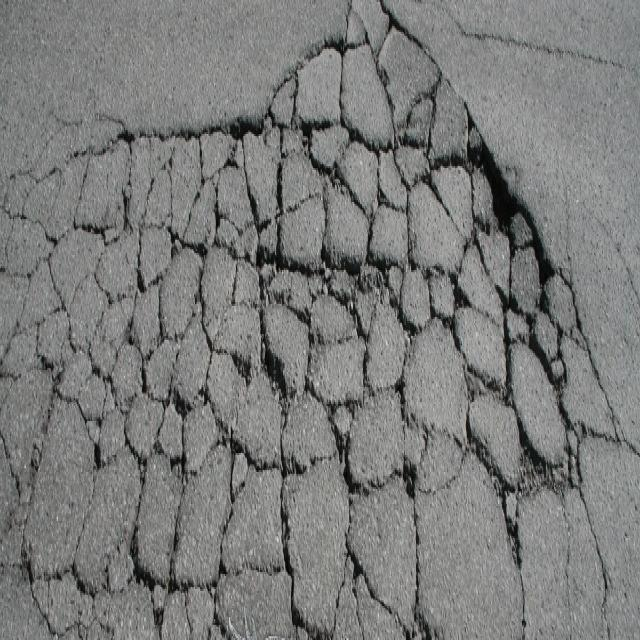Drain Hole: (32, 9, 639, 640)
